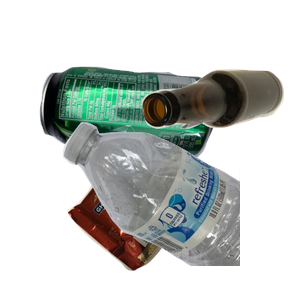glass: (140, 67, 300, 188)
metal: (37, 64, 245, 214)
plastic: (60, 120, 300, 300)
trash: (65, 145, 242, 300)
